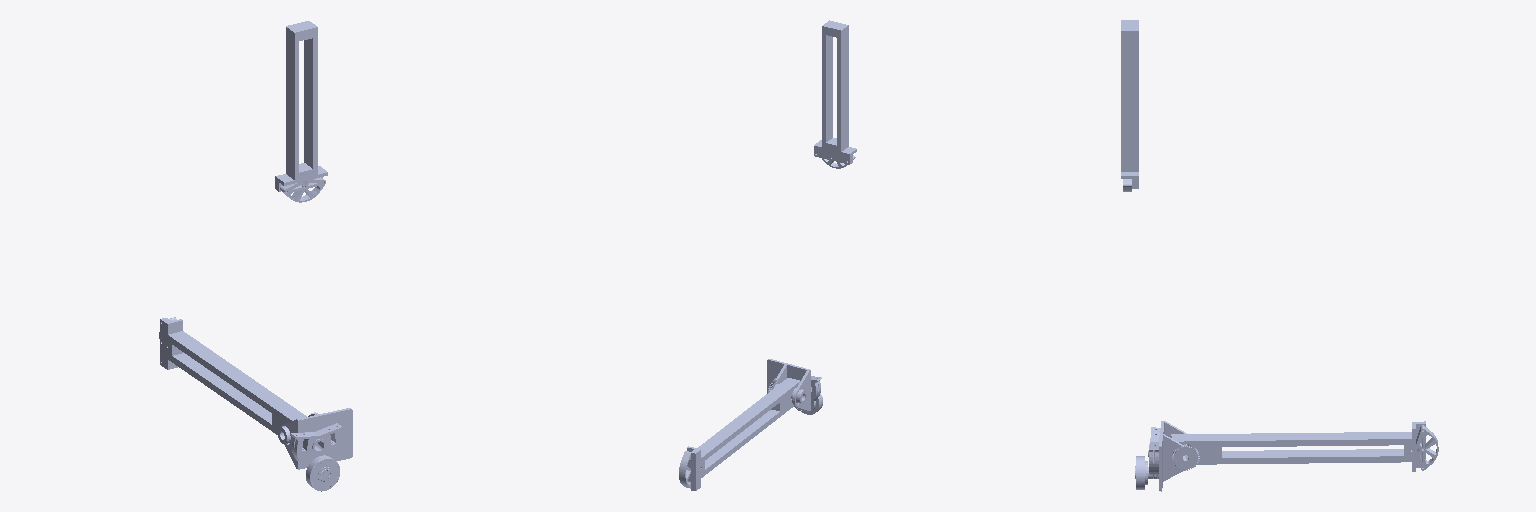
URDF robot description (robotic_arm_1):
<?xml version="1.0" encoding="utf-8"?>
<!-- This URDF was automatically created by SolidWorks to URDF Exporter! Originally created by [author] ([email redacted]) 
     Commit Version: 1.6.0-4-g7f85cfe  Build Version: 1.6.7995.38578
     For more information, please see http://wiki.ros.org/sw_urdf_exporter -->
<robot
  name="robotic_arm_1">
  <link
    name="arm_base_link">
    <inertial>
      <origin
        xyz="-0.00010245634218275 2.45859996157774E-06 0.0214724928778274"
        rpy="0 0 0" />
      <mass
        value="0.252551886669556" />
      <inertia
        ixx="0.000150902038596133"
        ixy="-2.88436689650817E-09"
        ixz="4.39682919984636E-07"
        iyy="0.000150053189033015"
        iyz="-3.07792916448405E-09"
        izz="0.000253108560055644" />
    </inertial>
    <visual>
      <origin
        xyz="0 0 0"
        rpy="0 0 0" />
      <geometry>
        <mesh
          filename="package://robotic_arm_1/meshes/arm_base_link.STL" />
      </geometry>
      <material
        name="">
        <color
          rgba="0.792156862745098 0.819607843137255 0.933333333333333 1" />
      </material>
    </visual>
    <collision>
      <origin
        xyz="0 0 0"
        rpy="0 0 0" />
      <geometry>
        <mesh
          filename="package://robotic_arm_1/meshes/arm_base_link.STL" />
      </geometry>
    </collision>
  </link>
  <link
    name="Capstan_arm_link">
    <inertial>
      <origin
        xyz="0.0070643032220165 -0.0122764637999162 0.0362543103918512"
        rpy="0 0 0" />
      <mass
        value="0.709466626058235" />
      <inertia
        ixx="0.00165051336508958"
        ixy="2.46957606770886E-05"
        ixz="4.63627043374479E-06"
        iyy="0.00111101449924064"
        iyz="-0.000105517085889965"
        izz="0.00236018957372939" />
    </inertial>
    <visual>
      <origin
        xyz="0.09 0 -0.06"
        rpy="0 0 0" />
      <geometry>
        <mesh
          filename="package://robotic_arm_1/meshes/Capstan_arm_link.STL" />
      </geometry>
      <material
        name="">
        <color
          rgba="0.792156862745098 0.819607843137255 0.933333333333333 1" />
      </material>
    </visual>
    <collision>
      <origin
        xyz="0 0 0"
        rpy="0 0 0" />
      <geometry>
        <mesh
          filename="package://robotic_arm_1/meshes/Capstan_arm_link.STL" />
      </geometry>
    </collision>
  </link>
  <joint
    name="Joint_1_Capstan"
    type="revolute">
    <origin
      xyz="-0.08825 0 0.0435"
      rpy="0 0 -0.045315" />
    <parent
      link="arm_base_link" />
    <child
      link="Capstan_arm_link" />
    <axis
      xyz="0 0 -1" />
    <limit
      lower="-1.4"
      upper="1.4"
      effort="36"
      velocity="0.2" />
  </joint>
  <link
    name="arm_link_1">
    <inertial>
      <origin
        xyz="-1.90466102472087E-05 -0.00074067503085362 0.312950666881576"
        rpy="0 0 0" />
      <mass
        value="2.02559987896371" />
      <inertia
        ixx="0.0122955056364337"
        ixy="1.37460312510447E-05"
        ixz="-9.58057581347945E-07"
        iyy="0.012829700926555"
        iyz="-3.72564629302058E-05"
        izz="0.00154118844811022" />
    </inertial>
    <visual>
      <origin
        xyz="0.09 0 -0.16"
        rpy="0 0 0" />
      <geometry>
        <mesh
          filename="package://robotic_arm_1/meshes/arm_link_1.STL" />
      </geometry>
      <material
        name="">
        <color
          rgba="0.792156862745098 0.819607843137255 0.933333333333333 1" />
      </material>
    </visual>
    <collision>
      <origin
        xyz="0 0 0"
        rpy="0 0 0" />
      <geometry>
        <mesh
          filename="package://robotic_arm_1/meshes/arm_link_1.STL" />
      </geometry>
    </collision>
  </link>
  <joint
    name="arm_link_1"
    type="revolute">
    <origin
      xyz="0.0001812 -0.0039959 0.104"
      rpy="0 0 0.071024" />
    <parent
      link="Capstan_arm_link" />
    <child
      link="arm_link_1" />
    <axis
      xyz="-0.025707 -0.99967 0" />
    <limit
      lower="-0.5"
      upper="1.4"
      effort="25"
      velocity="0.1" />
  </joint>
  <link
    name="arm_link_2">
    <inertial>
      <origin
        xyz="-3.23352455922077E-15 0.00799925604693499 0.246348425307334"
        rpy="0 0 0" />
      <mass
        value="1.03057802437217" />
      <inertia
        ixx="0.00633876312594691"
        ixy="-4.16173532851258E-19"
        ixz="-5.83484875325359E-19"
        iyy="0.00713091971056394"
        iyz="6.36398687437939E-05"
        izz="0.00119228700277233" />
    </inertial>
    <visual>
      <origin
        xyz="0.091 0 -0.9"
        rpy="1.5708 0 -1.5708" />
      <geometry>
        <mesh
          filename="package://robotic_arm_1/meshes/arm_link_2.STL" />
      </geometry>
      <material
        name="">
        <color
          rgba="0.792156862745098 0.819607843137255 0.933333333333333 1" />
      </material>
    </visual>
    <collision>
      <origin
        xyz="0 0 0"
        rpy="0 0 0" />
      <geometry>
        <mesh
          filename="package://robotic_arm_1/meshes/arm_link_2.STL" />
      </geometry>
    </collision>
  </link>
  <joint
    name="arm_link_2"
    type="revolute">
    <origin
      xyz="-0.0001928 -0.0074975 0.73665"
      rpy="0 0 -0.02571" />
    <parent
      link="arm_link_1" />
    <child
      link="arm_link_2" />
    <axis
      xyz="0 -1 0" />
    <limit
      lower="-1.4"
      upper="1.4"
      effort="12"
      velocity="0.15" />
  </joint>
</robot>

--- Facts derived from the render (not from the file) ---
Views: 3 orthographic renders of the robot side by side, from view 1: azimuth 30°, elevation 25°; view 2: azimuth 150°, elevation 25°; view 3: azimuth 270°, elevation 25°.
Robot: robotic_arm_1 — 4 links, 3 joints (3 revolute); root link arm_base_link; default pose: all joints at 0.
Visible links, largest first — view 1: arm_link_1, arm_link_2, Capstan_arm_link, arm_base_link; view 2: arm_link_1, arm_link_2, Capstan_arm_link; view 3: arm_link_1, arm_link_2, Capstan_arm_link.
Boxes of the visible links, x1,y1,x2,y2 form: arm_link_1: (159, 317, 318, 443); arm_link_2: (275, 21, 327, 202); Capstan_arm_link: (282, 408, 352, 469); arm_base_link: (306, 455, 339, 491); arm_link_1: (679, 378, 806, 490); arm_link_2: (814, 20, 856, 168); Capstan_arm_link: (767, 359, 821, 410); arm_link_1: (1171, 421, 1438, 471); arm_link_2: (1121, 20, 1138, 191); Capstan_arm_link: (1148, 421, 1186, 491).
Bounding box of the posed robot: 0.281 × 0.9233 × 1.44 m (x, y, z).
4 mesh visuals loaded from 4 distinct referenced files (4 binary STL).